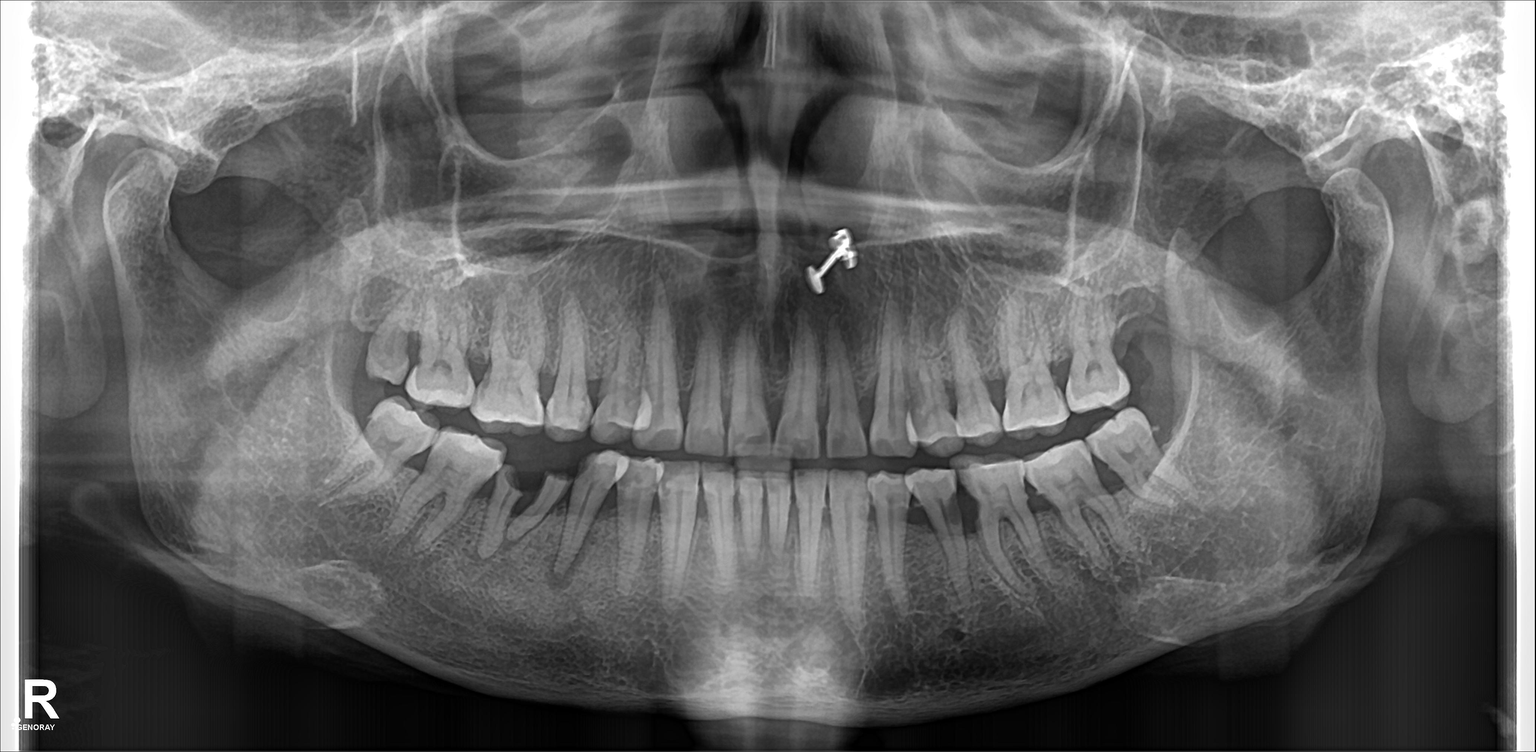Dental Caries: (942, 493, 983, 536)
Missing Tooth: (1117, 287, 1178, 392)
Retained Root: (529, 456, 571, 544), (490, 456, 524, 547)
